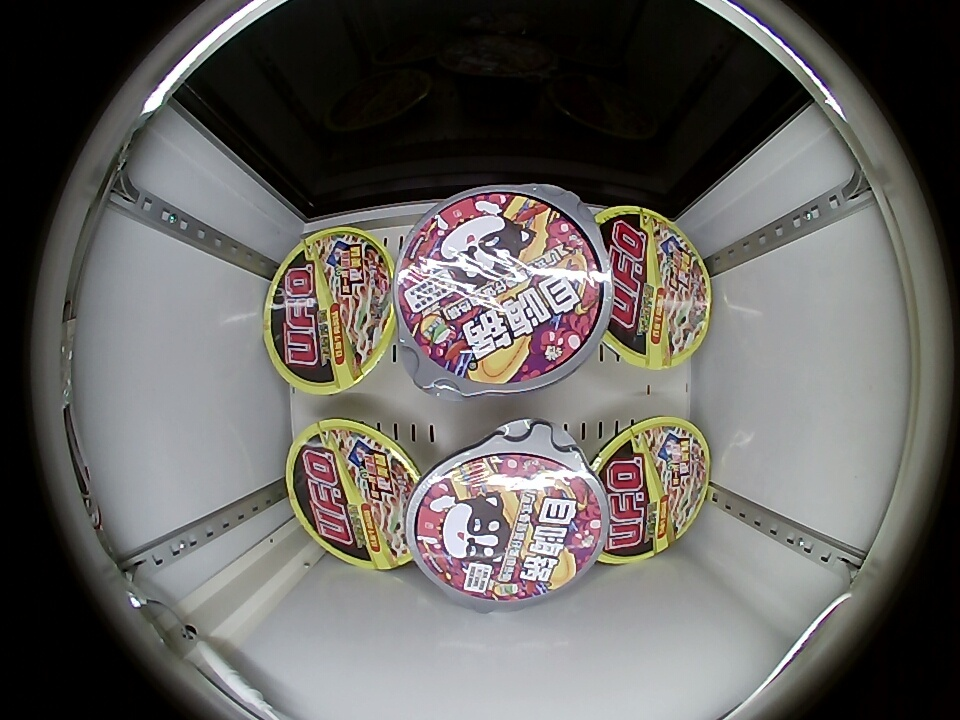ufo: (264, 226, 397, 394), (286, 418, 419, 571), (592, 205, 712, 369), (589, 416, 711, 563)
zihaiguo: (397, 192, 603, 383), (415, 452, 601, 601)
